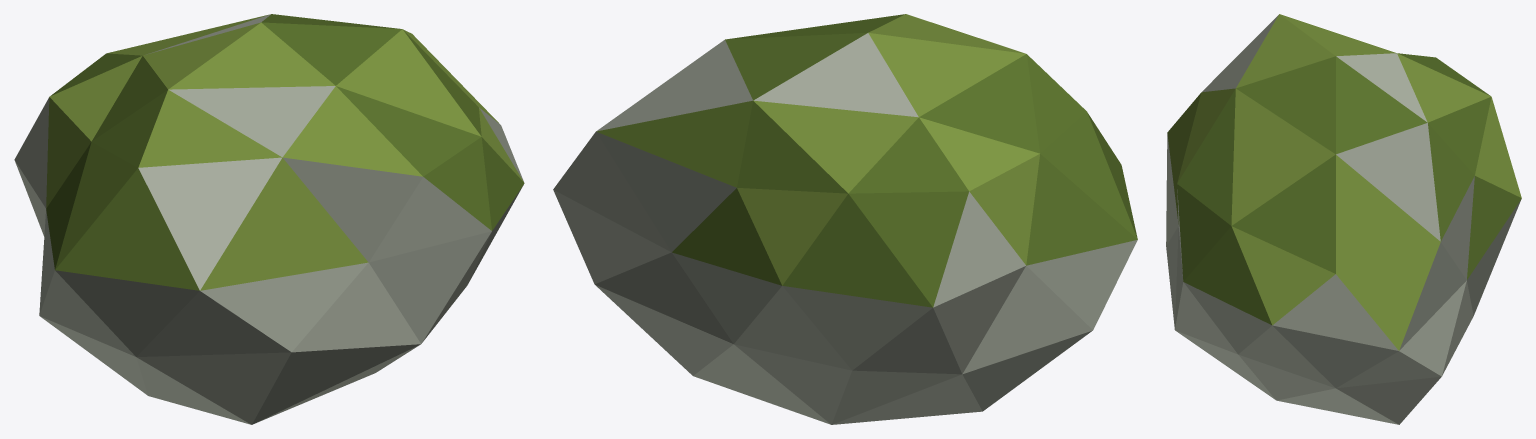
File: rock_mossy_fieldstone.glb
3 renders of one model, left to right at view 1: azimuth 30°, elevation 25°; view 2: azimuth 150°, elevation 25°; view 3: azimuth 270°, elevation 25°, orthographic. The views are drawn at different scales.
Visible parts, largest first — view 1: Moss-covered field boulder; view 2: Moss-covered field boulder; view 3: Moss-covered field boulder.
Boxes of the visible parts, x1,y1,x2,y2 form: Moss-covered field boulder: [14, 14, 524, 424]; Moss-covered field boulder: [553, 14, 1137, 424]; Moss-covered field boulder: [1166, 14, 1521, 424].
Bounding box in the file's own units: 1.78 × 1.15 × 1.2.
